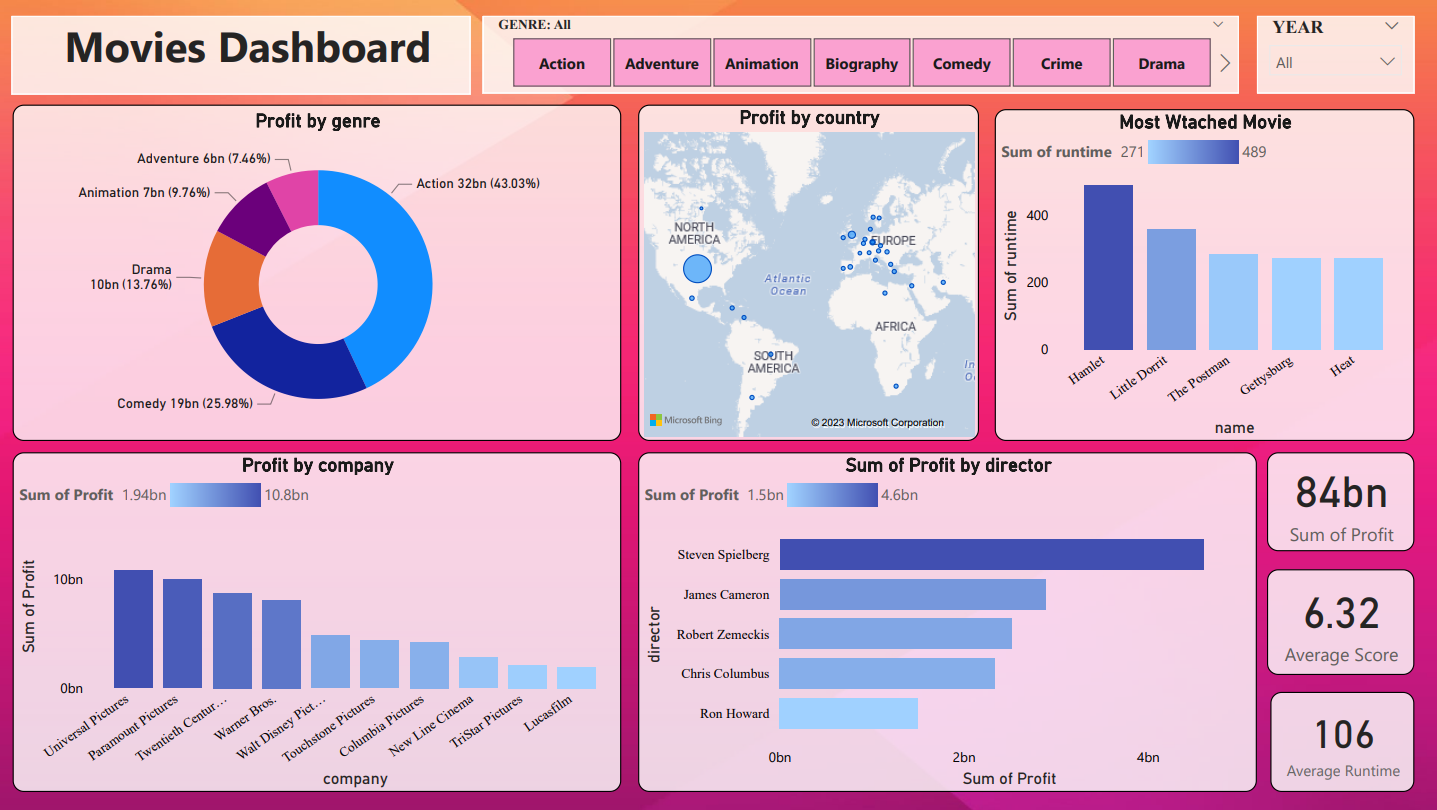

This screenshot's page, from the dashboard's own definition file:
{"tool":"powerbi","page":{"name":"Page 1","canvas":[1280,720],"ordinal":0},"visuals":[{"type":"map","title":"Profit by country","fields":{"Category":["movies.country"],"Size":["movies.Profit"]},"box":[569,93.2,303.3,299.1],"z":0},{"type":"columnChart","title":"Profit by company","fields":{"Category":["movies.company"],"Y":["movies.Profit"]},"box":[12.5,402.1,541.2,301.9],"z":1},{"type":"textbox","box":[12.3,13.7,407.5,70],"z":2},{"type":"slicer","fields":{"Values":["movies.year"]},"box":[1118.6,13.9,140.5,69.6],"z":3},{"type":"slicer","fields":{"Values":["movies.genre"]},"box":[431.3,13.9,672,69.6],"z":4},{"type":"donutChart","title":"Profit by genre","fields":{"Category":["movies.genre"],"Y":["movies.Profit"]},"box":[12.5,93.2,541.2,299.1],"z":5},{"type":"clusteredBarChart","fields":{"Category":["movies.director"],"Y":["movies.Profit"]},"box":[569,402.1,549.6,301.9],"z":6},{"type":"clusteredColumnChart","title":"Most Wtached Movie","fields":{"Category":["movies.name"],"Y":["movies.runtime"]},"box":[886.3,97.4,372.9,295],"z":7},{"type":"card","fields":{"Values":["movies.Profit"]},"box":[1128.3,402.1,130.8,87.7],"z":8},{"type":"card","fields":{"Values":["movies.Measure"]},"box":[1128.3,506.4,130.8,93.2],"z":9},{"type":"card","fields":{"Values":["movies.Average Runtime"]},"box":[1131.1,615,128,89],"z":10}]}

Visuals, with their boxes in screenshot pixels (x1, y1, x2, y2), scaled from the page's 1280x720 canvas onto the 1437x810 screenshot:
"Profit by country" map: 639 105 979 441
"Profit by company" columnChart: 14 452 622 792
textbox: 14 15 471 94
slicer - movies.year: 1256 16 1414 94
slicer - movies.genre: 484 16 1239 94
"Profit by genre" donutChart: 14 105 622 441
clusteredBarChart - movies.director x movies.Profit: 639 452 1256 792
"Most Wtached Movie" clusteredColumnChart: 995 110 1414 441
card - movies.Profit: 1267 452 1414 551
card - movies.Measure: 1267 570 1414 675
card - movies.Average Runtime: 1270 692 1414 792
